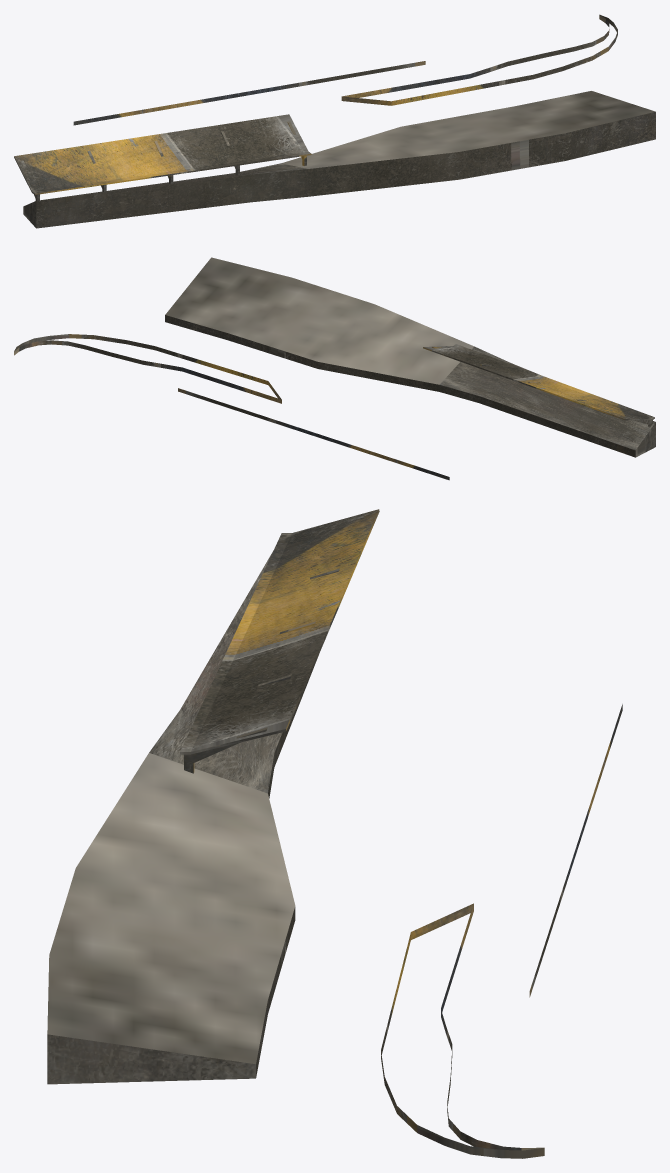
File: decor1Background.fbx
3 views of the same model, one above another, from view 1: azimuth 30°, elevation 25°; view 2: azimuth 150°, elevation 25°; view 3: azimuth 270°, elevation 25° (orthographic). The views are drawn at different scales.
Parts seen in each view (by area): view 1: polySurface50; view 2: polySurface50; view 3: polySurface50.
Part boxes in pixels (x1,y1,x2,y2): polySurface50: (14, 14, 655, 228); polySurface50: (14, 257, 655, 480); polySurface50: (47, 509, 622, 1158).
Size of the model in its own units: 481 by 36.08 by 207.
1 material, 1 textured.
